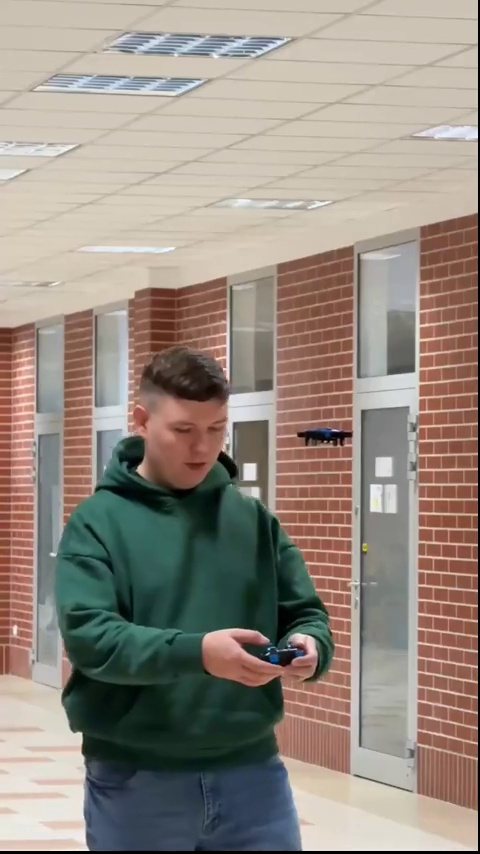drone: (297, 426, 353, 447)
no vest: (71, 347, 324, 834)
